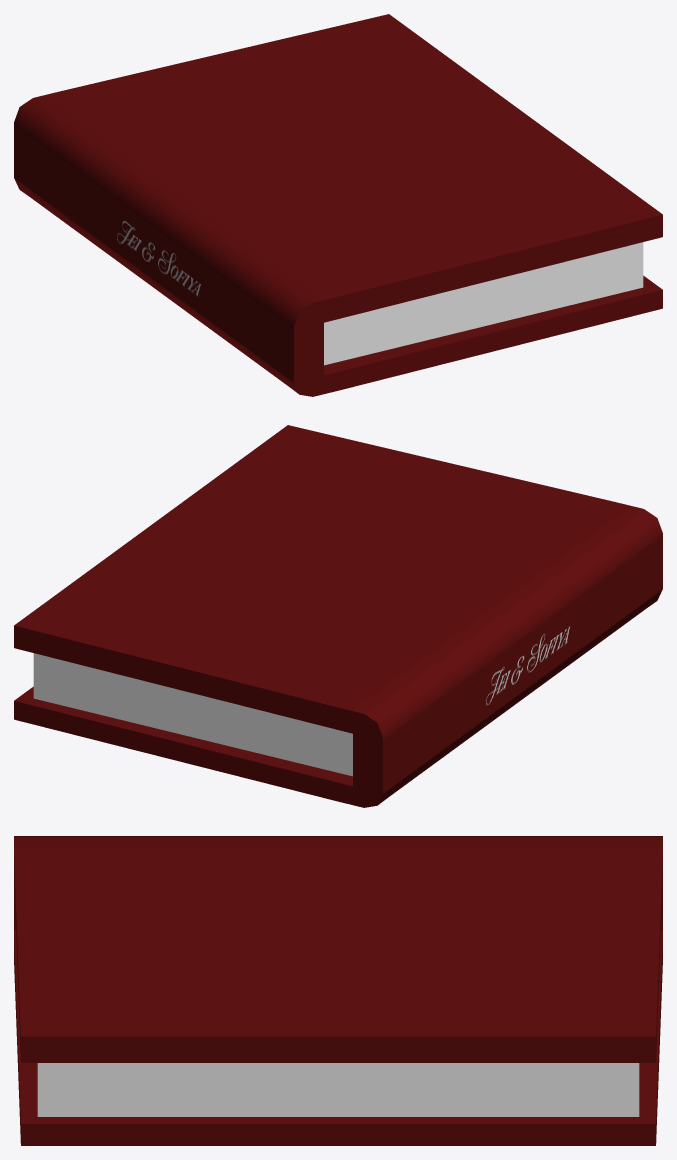
File: furniture_decor_210030.glb
3 renders of one model, top to bottom at view 1: azimuth 30°, elevation 25°; view 2: azimuth 150°, elevation 25°; view 3: azimuth 270°, elevation 25°, orthographic. The views are drawn at different scales.
Visible parts, largest first — view 1: furniture_decor_210030; view 2: furniture_decor_210030; view 3: furniture_decor_210030.
Part boxes in pixels (x1,y1,x2,y2): furniture_decor_210030: [14, 14, 662, 396]; furniture_decor_210030: [14, 425, 662, 807]; furniture_decor_210030: [14, 836, 662, 1145].
Bounding box in the file's own units: 0.1987 × 0.048 × 0.2589.
Materials: 1 (1 with a texture image).
